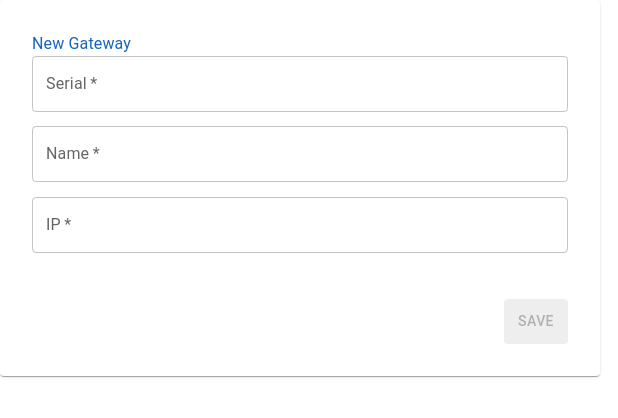
Test case: <NewGateway /> Load the NewGateway component and make sure everything is correct › displays name validation errors
Type "this@wontgfgfgfgfgfgfgfgfgfgfgfgfgfgfgfgfgfgfgfgfgfgfgfgfgfgfgfgfgfg" into the field labelled "Name *" at [300, 154], box [32,126,568,182]
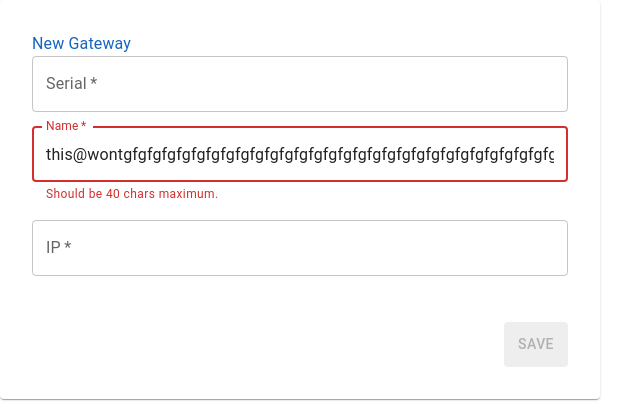
Check: the text "Should be 40 chars maximum." is shown, box [46,187,219,201]
Clear the field labelled "Name *" at [300, 154], box [32,126,568,182]
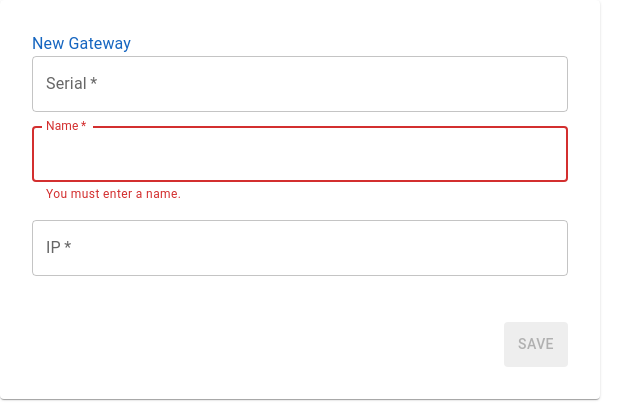
Check: the text "You must enter a name." is shown, box [46,187,181,201]
